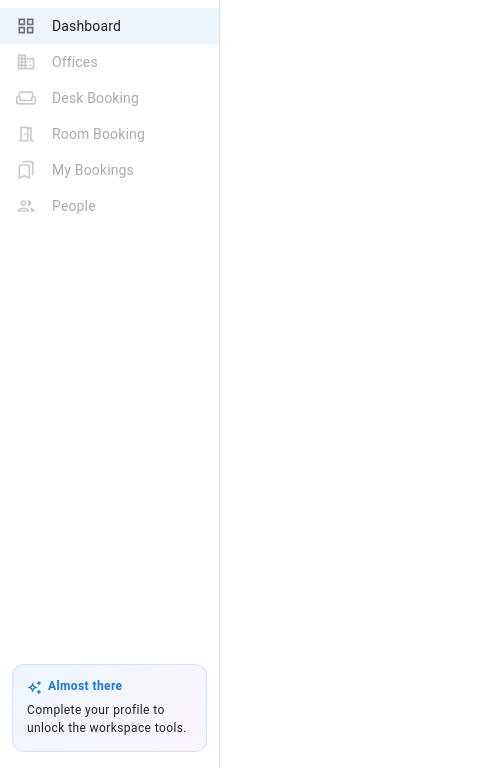
Test: AppSidebar — locked (profile incomplete) › locked tooltip text is present in the DOM for disabled items
# Hover the span wrapper (not the button, which has pointer-events:none when disabled)
Hover over the element showing "Offices" at (57, 62), box x1=16 y1=52 x2=98 y2=72
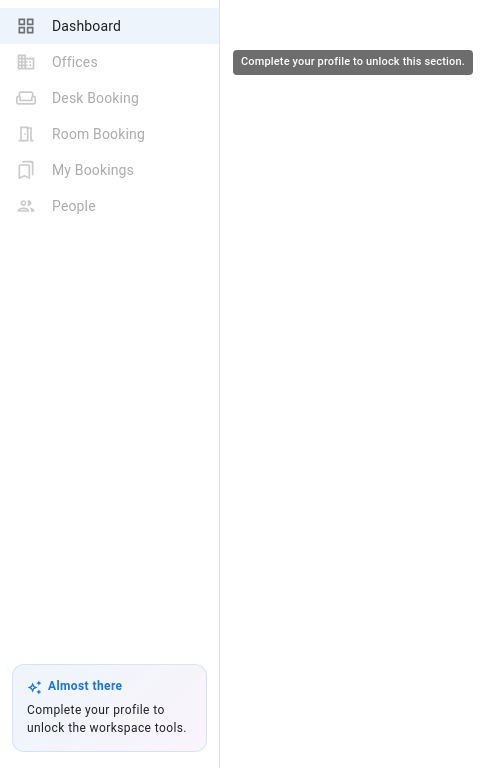
Expected: the tooltip "Complete your profile to unlock this section." is shown, x1=219 y1=48 x2=475 y2=76
